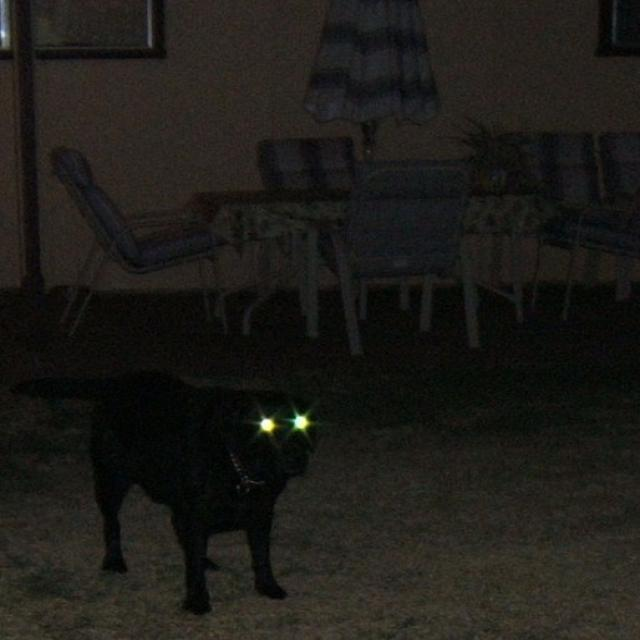Dog: (100, 338, 385, 614)
